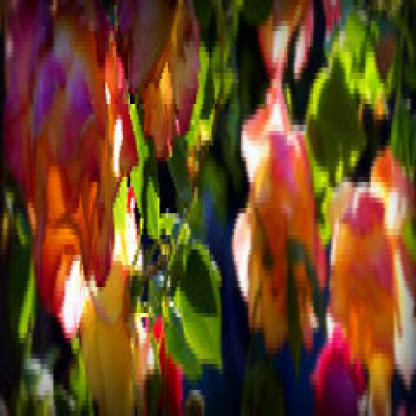Rose-Mawar: (240, 69, 415, 412)
